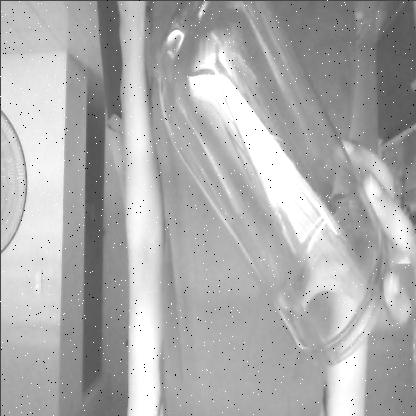Plastic Bottle: (153, 0, 391, 366)
